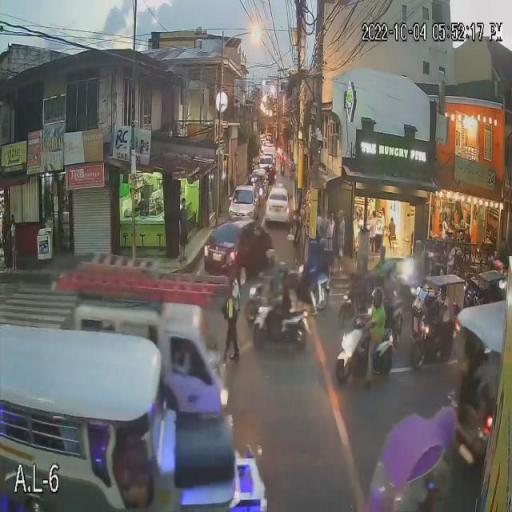helmet: (369, 287, 384, 308), (276, 260, 289, 281), (318, 238, 328, 251), (309, 240, 318, 252)
motorcycle: (336, 324, 394, 381), (254, 306, 308, 351), (287, 268, 331, 310)
rider: (365, 310, 385, 386), (305, 254, 319, 314), (275, 287, 291, 332), (317, 253, 330, 307)
